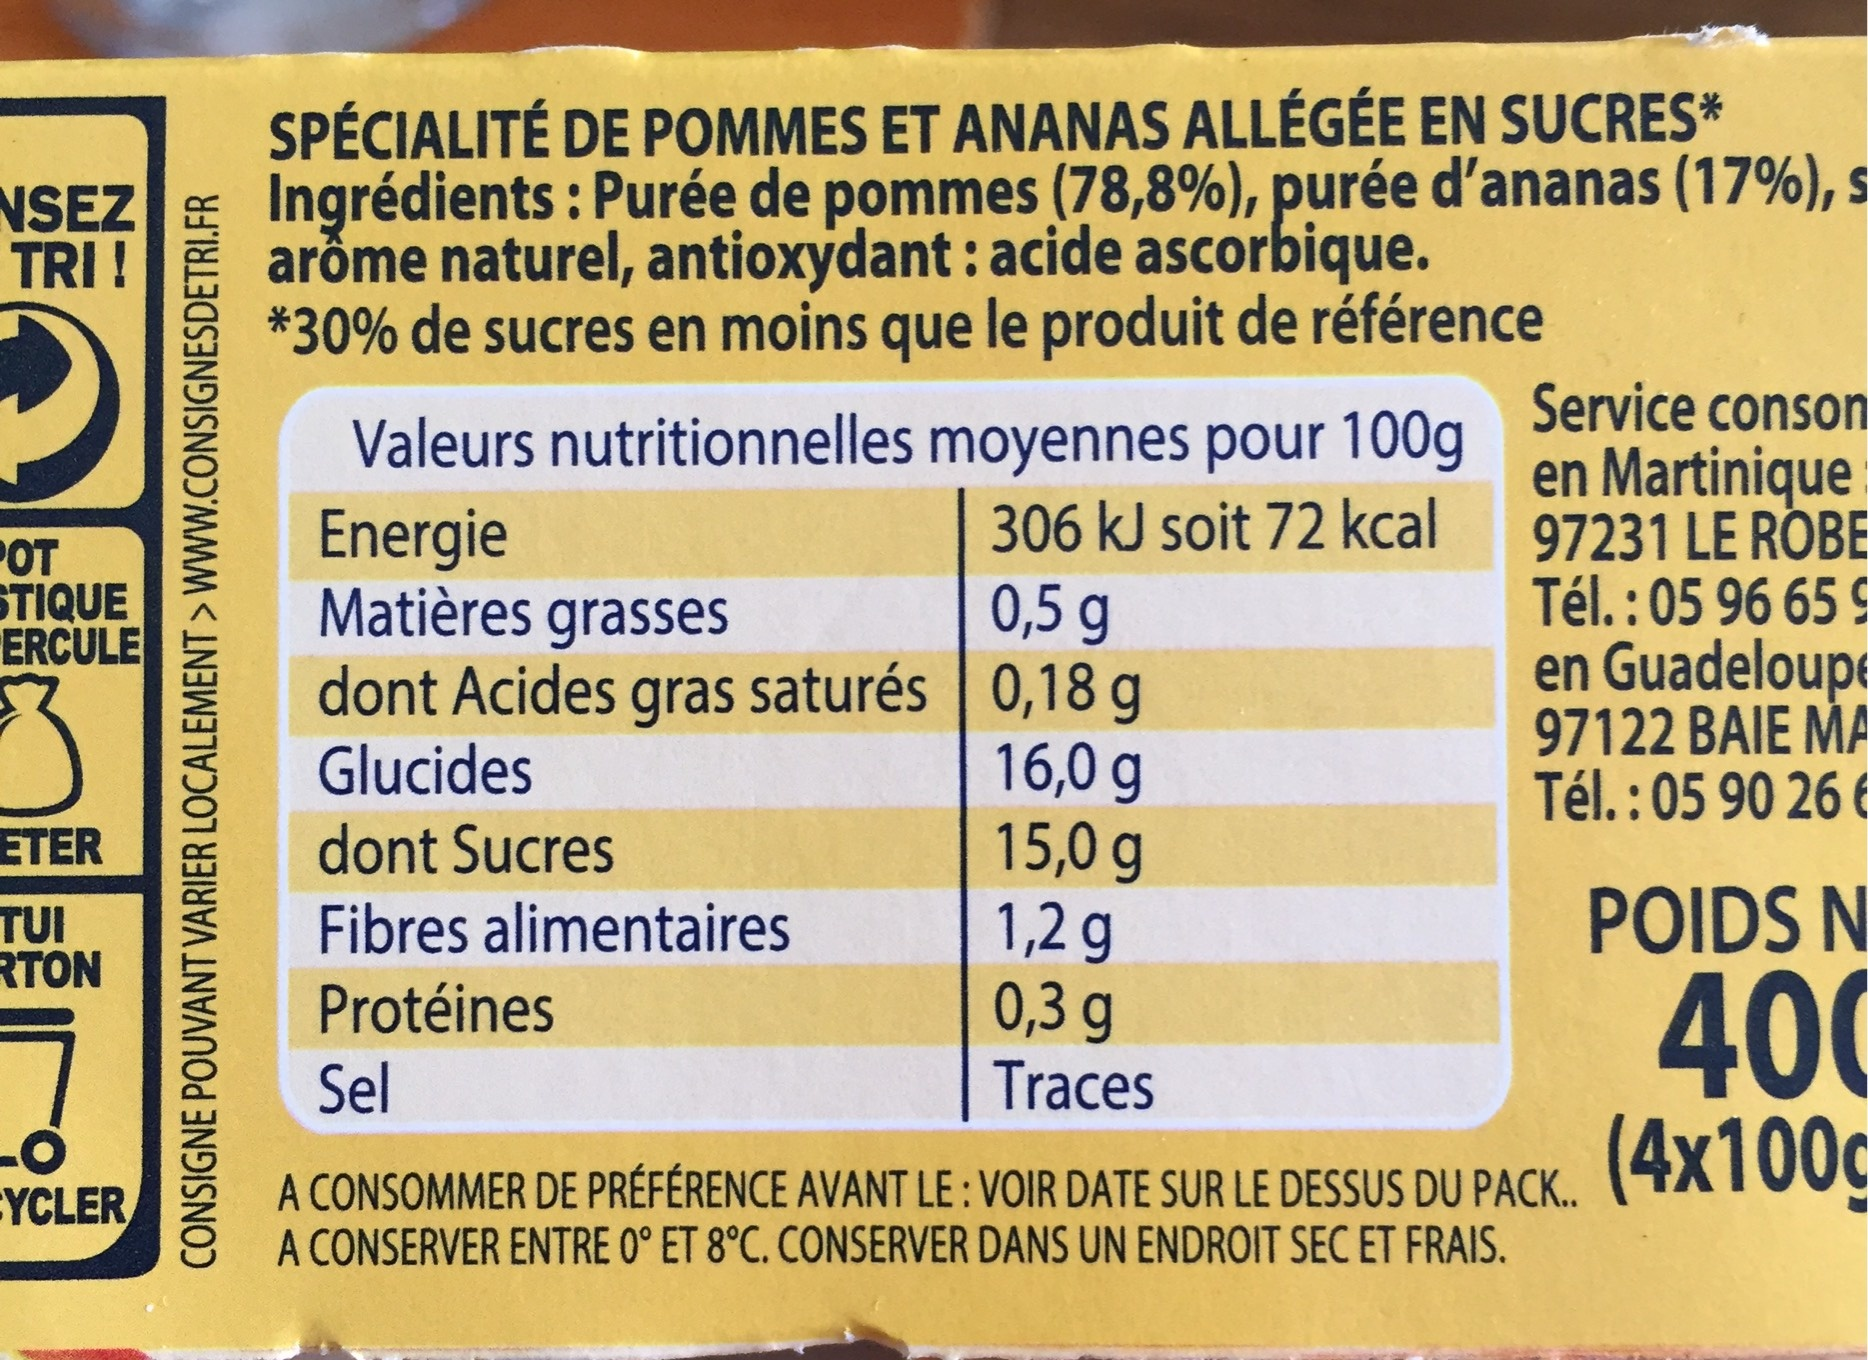column: (318, 492, 930, 1114), (989, 486, 1442, 1118)
table: (270, 378, 1520, 1135)
